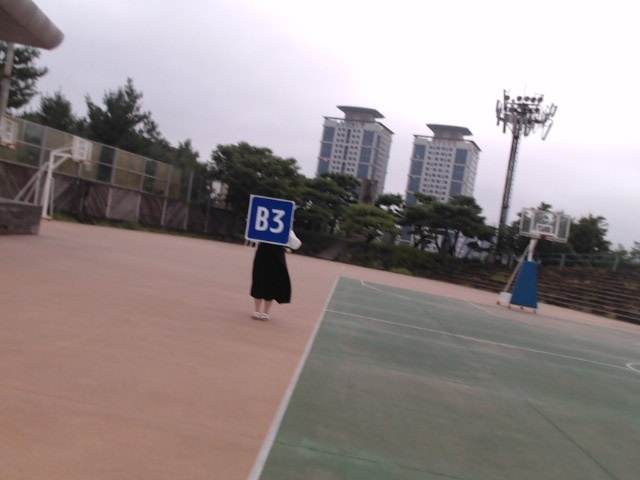delivery_b3: (245, 195, 295, 246)
